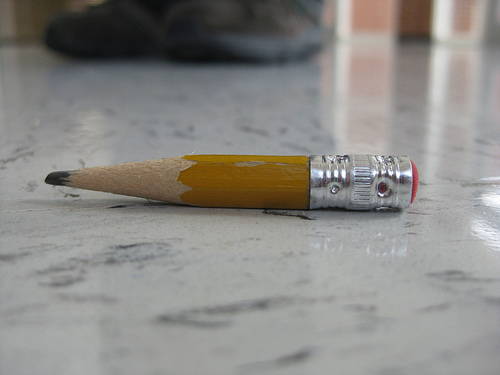pen_tip: (34, 152, 194, 216)
